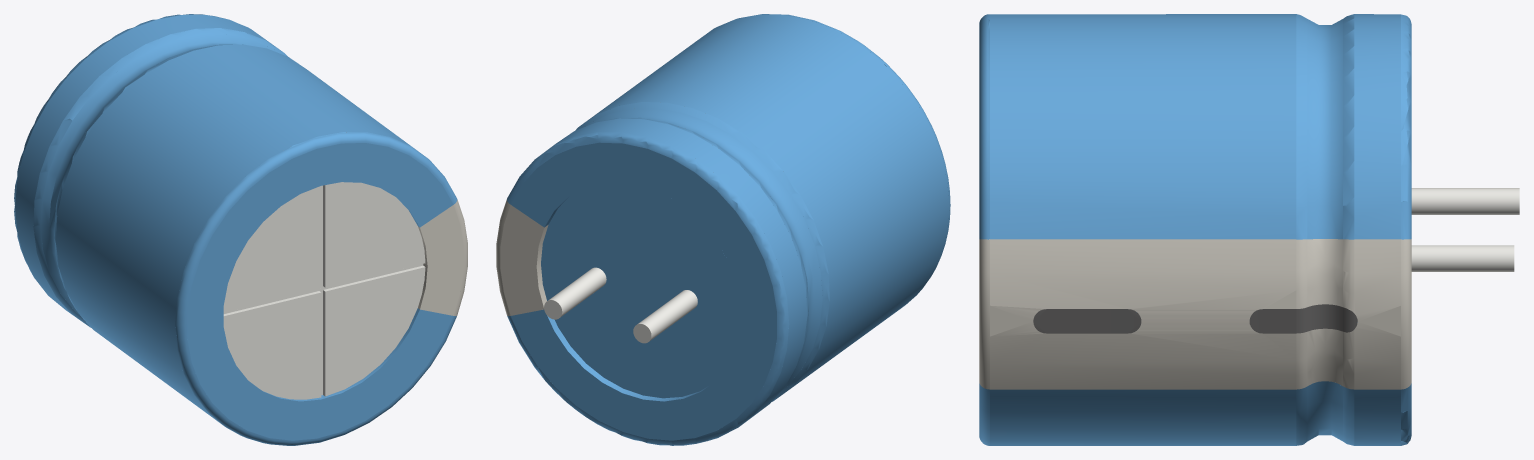
The model's file is CP_Radial_D8.0mm_P2.50mm.glb.
3 views of the same model, side by side, from view 1: azimuth 30°, elevation 25°; view 2: azimuth 150°, elevation 25°; view 3: azimuth 270°, elevation 25° (orthographic). The views are drawn at different scales.
Parts seen in each view (by area): view 1: Shape_IndexedFaceSet.025, Shape_IndexedFaceSet.032, Shape_IndexedFaceSet.036, Shape_IndexedFaceSet.042, Shape_IndexedFaceSet.038, Shape_IndexedFaceSet.011, Shape_IndexedFaceSet.045, Shape_IndexedFaceSet.028, Shape_IndexedFaceSet.017, Shape_IndexedFaceSet.033, Shape_IndexedFaceSet.013, Shape_IndexedFaceSet.021 (+4 smaller); view 2: Shape_IndexedFaceSet.025, Shape_IndexedFaceSet.002, Shape_IndexedFaceSet.006, Shape_IndexedFaceSet.011, Shape_IndexedFaceSet.009, Shape_IndexedFaceSet.017, Shape_IndexedFaceSet.007, Shape_IndexedFaceSet.021, Shape_IndexedFaceSet.005, Shape_IndexedFaceSet.001, Shape_IndexedFaceSet.013, Shape_IndexedFaceSet.003 (+2 smaller); view 3: Shape_IndexedFaceSet.025, Shape_IndexedFaceSet.027, Shape_IndexedFaceSet.011, Shape_IndexedFaceSet.017, Shape_IndexedFaceSet.012, Shape_IndexedFaceSet.013, Shape_IndexedFaceSet.021, Shape_IndexedFaceSet.028, Shape_IndexedFaceSet.009, Shape_IndexedFaceSet.005, Shape_IndexedFaceSet.001, Shape_IndexedFaceSet.031 (+10 smaller).
Boxes of the visible parts, x1,y1,x2,y2 form: Shape_IndexedFaceSet.025: (56,44,417,421); Shape_IndexedFaceSet.032: (187,143,453,440); Shape_IndexedFaceSet.036: (325,267,425,396); Shape_IndexedFaceSet.042: (223,292,321,399); Shape_IndexedFaceSet.038: (325,182,425,287); Shape_IndexedFaceSet.011: (15,15,280,320); Shape_IndexedFaceSet.045: (223,186,321,312); Shape_IndexedFaceSet.028: (175,132,457,445); Shape_IndexedFaceSet.017: (40,34,277,316); Shape_IndexedFaceSet.033: (420,205,463,315); Shape_IndexedFaceSet.013: (33,28,287,327); Shape_IndexedFaceSet.021: (54,44,242,328); Shape_IndexedFaceSet.025: (583,14,949,386); Shape_IndexedFaceSet.002: (541,182,740,398); Shape_IndexedFaceSet.006: (511,142,776,440); Shape_IndexedFaceSet.011: (541,118,807,425); Shape_IndexedFaceSet.009: (507,132,789,445); Shape_IndexedFaceSet.017: (586,108,822,390); Shape_IndexedFaceSet.007: (500,205,544,315); Shape_IndexedFaceSet.021: (575,102,829,401); Shape_IndexedFaceSet.005: (637,290,697,340); Shape_IndexedFaceSet.001: (548,267,606,317); Shape_IndexedFaceSet.013: (601,117,808,399); Shape_IndexedFaceSet.003: (544,196,708,401); Shape_IndexedFaceSet.025: (990,14,1296,445); Shape_IndexedFaceSet.027: (990,239,1296,389); Shape_IndexedFaceSet.011: (1354,14,1400,445); Shape_IndexedFaceSet.017: (1307,19,1342,441); Shape_IndexedFaceSet.012: (1354,239,1400,389); Shape_IndexedFaceSet.013: (1343,14,1354,445); Shape_IndexedFaceSet.021: (1296,14,1307,445); Shape_IndexedFaceSet.028: (979,14,989,445); Shape_IndexedFaceSet.009: (1401,14,1411,445); Shape_IndexedFaceSet.005: (1411,188,1519,214); Shape_IndexedFaceSet.001: (1411,245,1514,271); Shape_IndexedFaceSet.031: (1033,309,1141,333).
Bounding box in the file's own units: 3.15 × 3.15 × 3.94.
